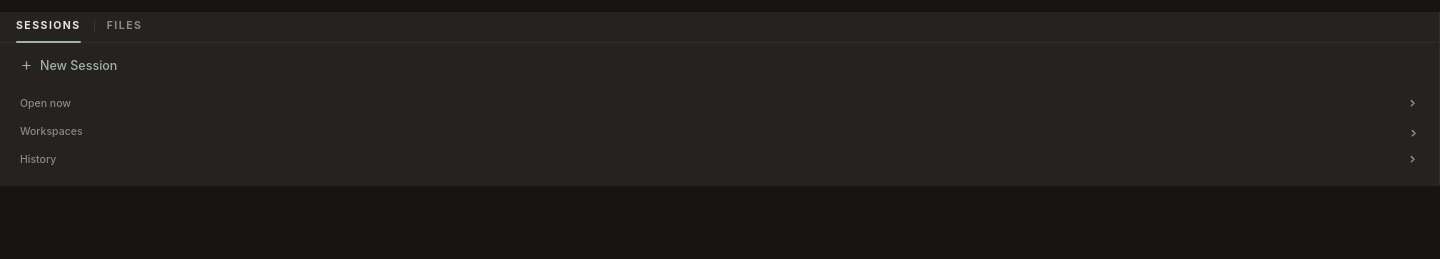
Test case: FileSidebar tabs and sessions pane › lists saved folders under Workspaces and expands their session history
The image size is (1440, 259).
Click the button with class "section-toggle" showing "Workspaces". click: click(51, 132)
box: [12, 119, 1377, 144]
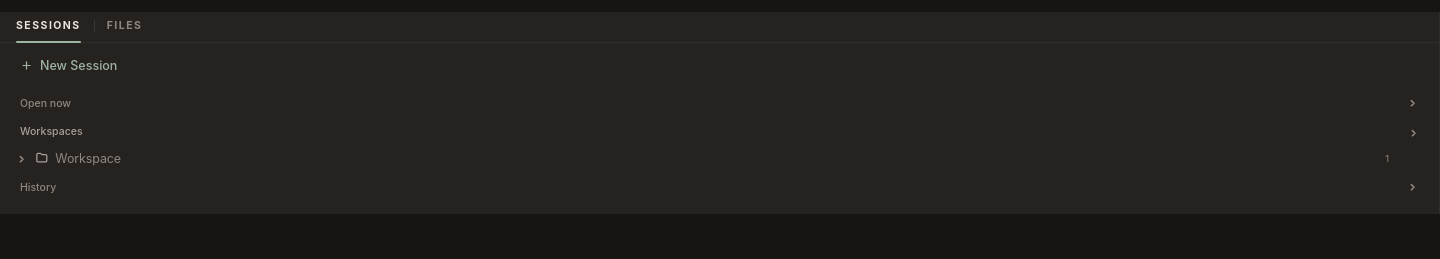
Now the button with class "sessions-project-toggle" shows "Workspace"
Click the button with class "sessions-project-toggle". click: click(88, 158)
box: [10, 144, 1397, 172]
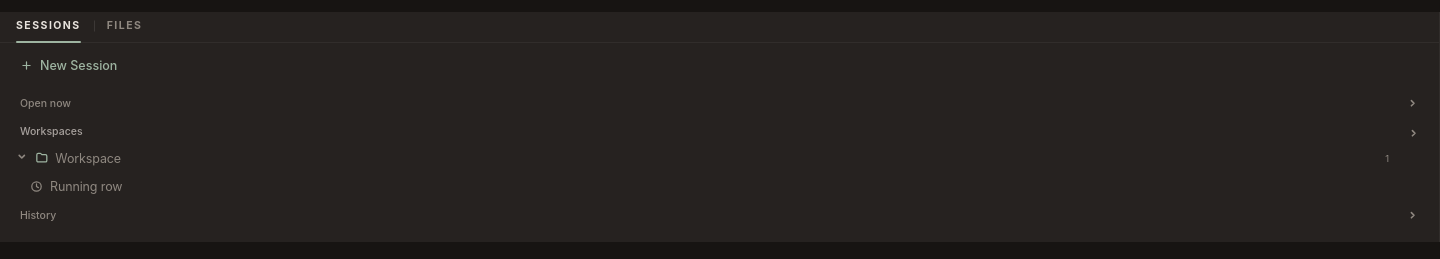
Now the element with class "sessions-project-sessions" reads "Running row", box [50, 178, 122, 194]
